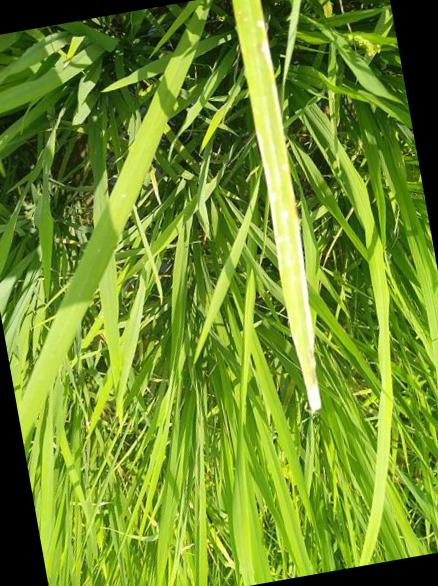Leaf Blight: (252, 6, 322, 411)
